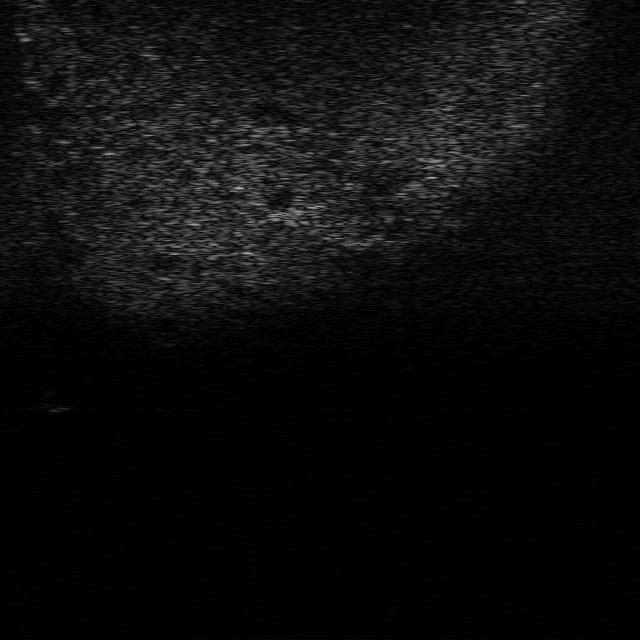cube: (39, 385, 79, 414)
